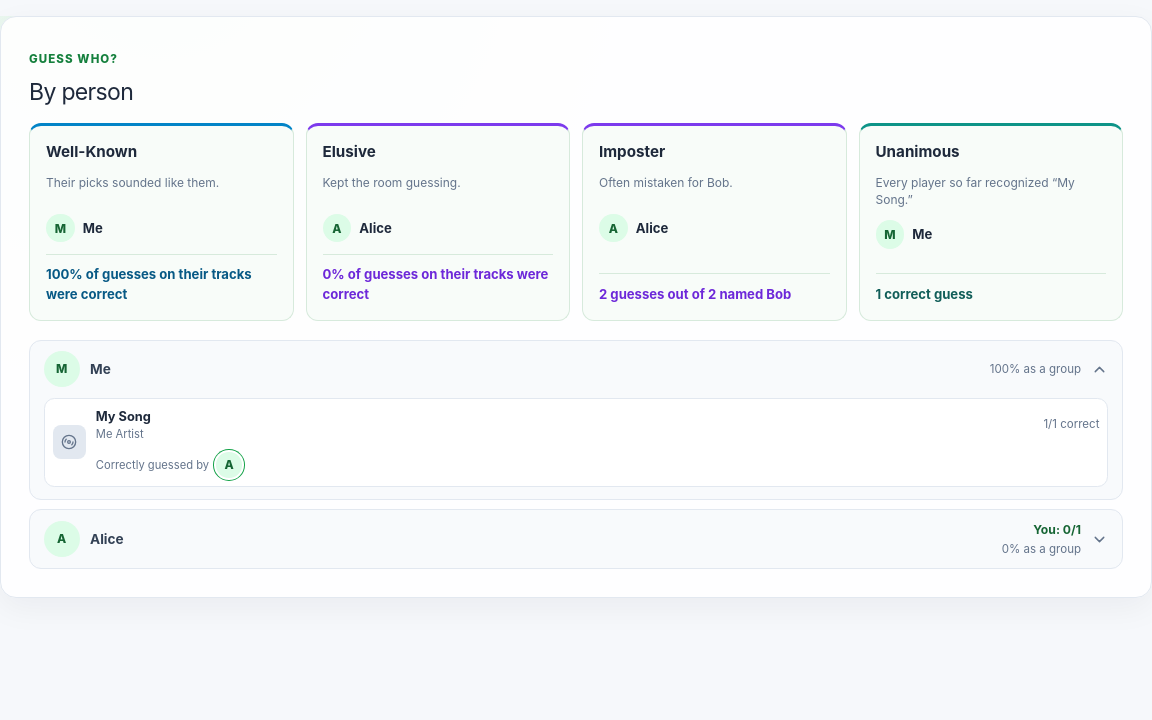
AttributionBreakdown › groups multiple wrong guesses for the same mistaken target under one avatar with a count
Click the text "Alice" below "Correctly guessed by" at coordinates (107, 539), box x1=90 y1=531 x2=124 y2=547
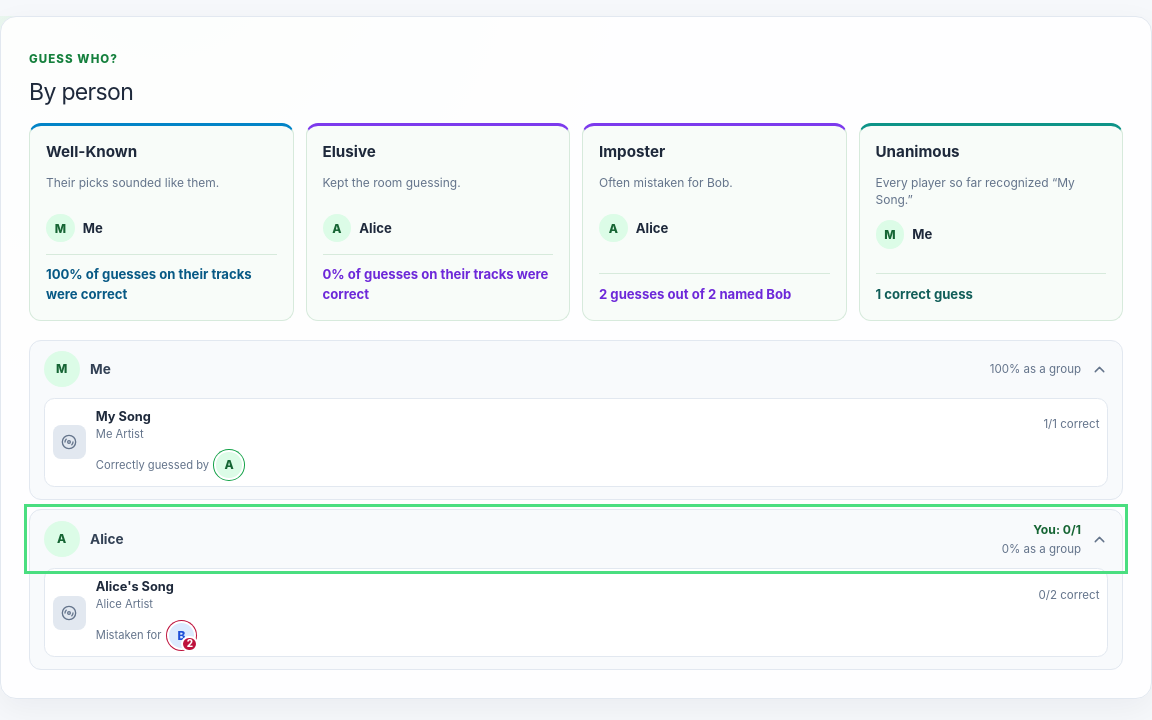
Now the number of buttons named "Me and Carol guessed Bob" is 1, box x1=169 y1=623 x2=194 y2=648
Now the button named "Me and Carol guessed Bob" shows "2", box x1=169 y1=623 x2=194 y2=648
